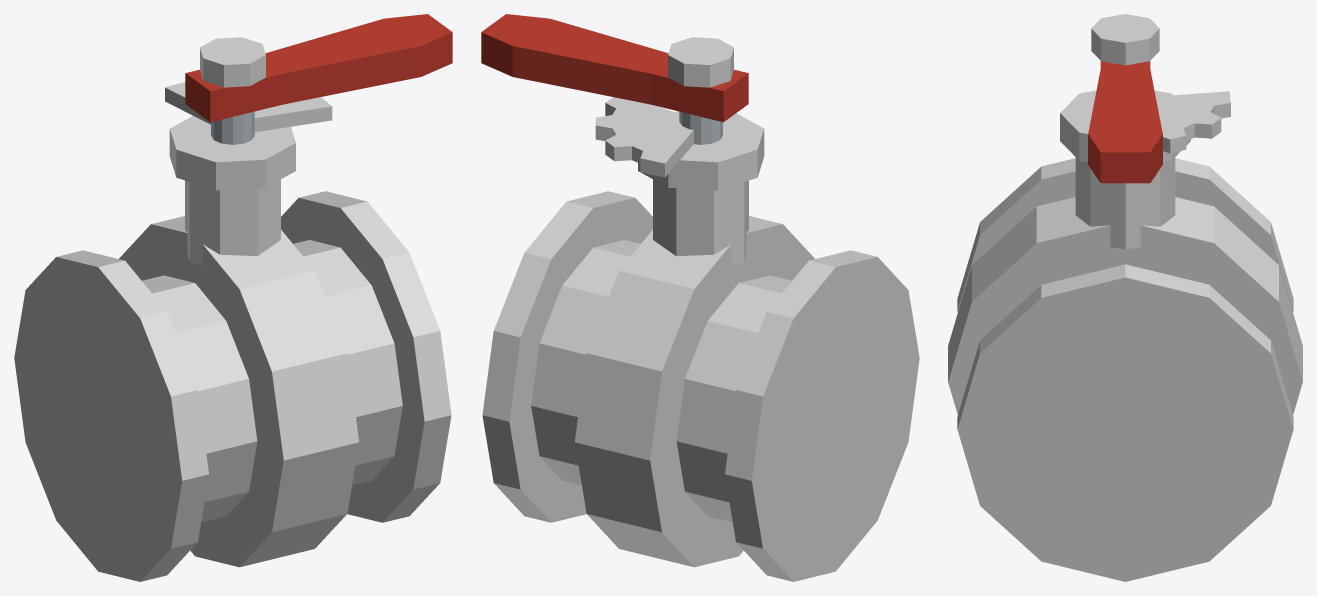
File: valve-butterfly.glb
The picture shows the model from 3 angles, left to right: view 1: azimuth 30°, elevation 25°; view 2: azimuth 150°, elevation 25°; view 3: azimuth 270°, elevation 25°; orthographic projection.
Parts seen in each view (by area): view 1: in.flange, wafer.body, out.flange, lever, in.stub, out.stub, packing.nut, neck, stem.cap, notched.plate, stem; view 2: in.flange, wafer.body, out.flange, lever, in.stub, out.stub, neck, notched.plate, packing.nut, stem.cap, stem; view 3: out.flange, wafer.body, in.flange, lever, neck, notched.plate, stem.cap, packing.nut.
Boxes of the visible parts, box(x1,y1,x2,y2) form: in.flange: box(14, 250, 208, 581); wafer.body: box(119, 216, 359, 567); out.flange: box(281, 191, 451, 522); lever: box(185, 14, 452, 122); in.stub: box(142, 275, 257, 522); out.stub: box(293, 240, 402, 485); packing.nut: box(169, 116, 295, 190); neck: box(185, 179, 280, 265); stem.cap: box(200, 37, 265, 87); notched.plate: box(165, 82, 332, 132); stem: box(211, 111, 254, 144); in.flange: box(725, 250, 919, 581); wafer.body: box(574, 216, 814, 567); out.flange: box(482, 191, 652, 522); lever: box(481, 14, 748, 122); in.stub: box(676, 275, 791, 522); out.stub: box(531, 240, 640, 485); neck: box(653, 179, 748, 265); notched.plate: box(595, 97, 693, 177); packing.nut: box(638, 111, 764, 190); stem.cap: box(668, 37, 733, 87); stem: box(679, 111, 722, 144); out.flange: box(957, 264, 1293, 581); wafer.body: box(948, 197, 1302, 414); in.flange: box(957, 158, 1293, 312); lever: box(1088, 61, 1162, 183); neck: box(1075, 157, 1175, 249); notched.plate: box(1155, 91, 1230, 153); stem.cap: box(1091, 14, 1159, 65); packing.nut: box(1060, 90, 1190, 162).
Bounding box in the file's own units: 0.635 × 0.88 × 0.57.
